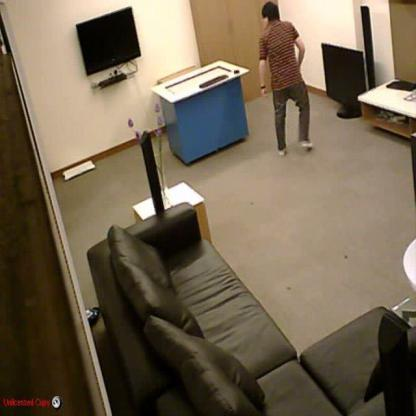Person: (259, 4, 314, 156)
